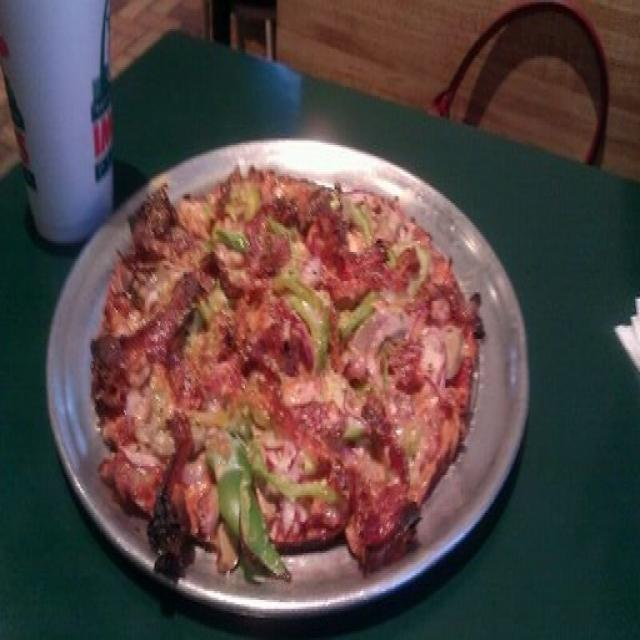Basil: (217, 449, 329, 578)
Green Pepper: (279, 274, 326, 360), (338, 293, 379, 334), (271, 218, 302, 270), (410, 246, 428, 300), (228, 191, 262, 219), (202, 284, 227, 322), (219, 227, 250, 251), (388, 235, 410, 267), (380, 342, 393, 390), (352, 207, 371, 238), (344, 424, 360, 442)
Pizza: (95, 169, 475, 582)
